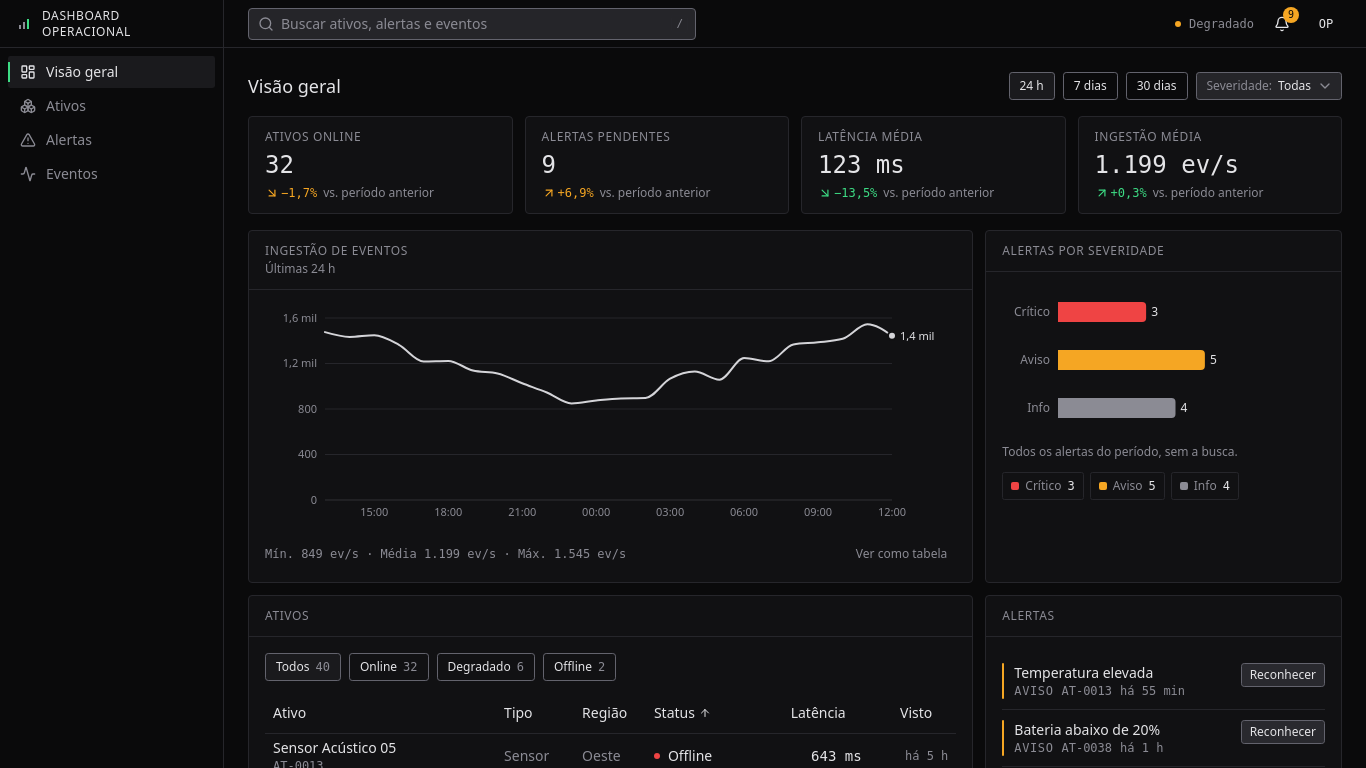
Test: OverviewPage › a busca não muda os KPIs nem o gráfico de severidade, que mostram o período inteiro
Check: the text "Latência média" is shown, box top-left (818, 128), bottom-right (922, 145)
Type "zzz" into the search field labelled "Buscar ativos, alertas e eventos" at (472, 24), box top-left (248, 8), bottom-right (696, 40)
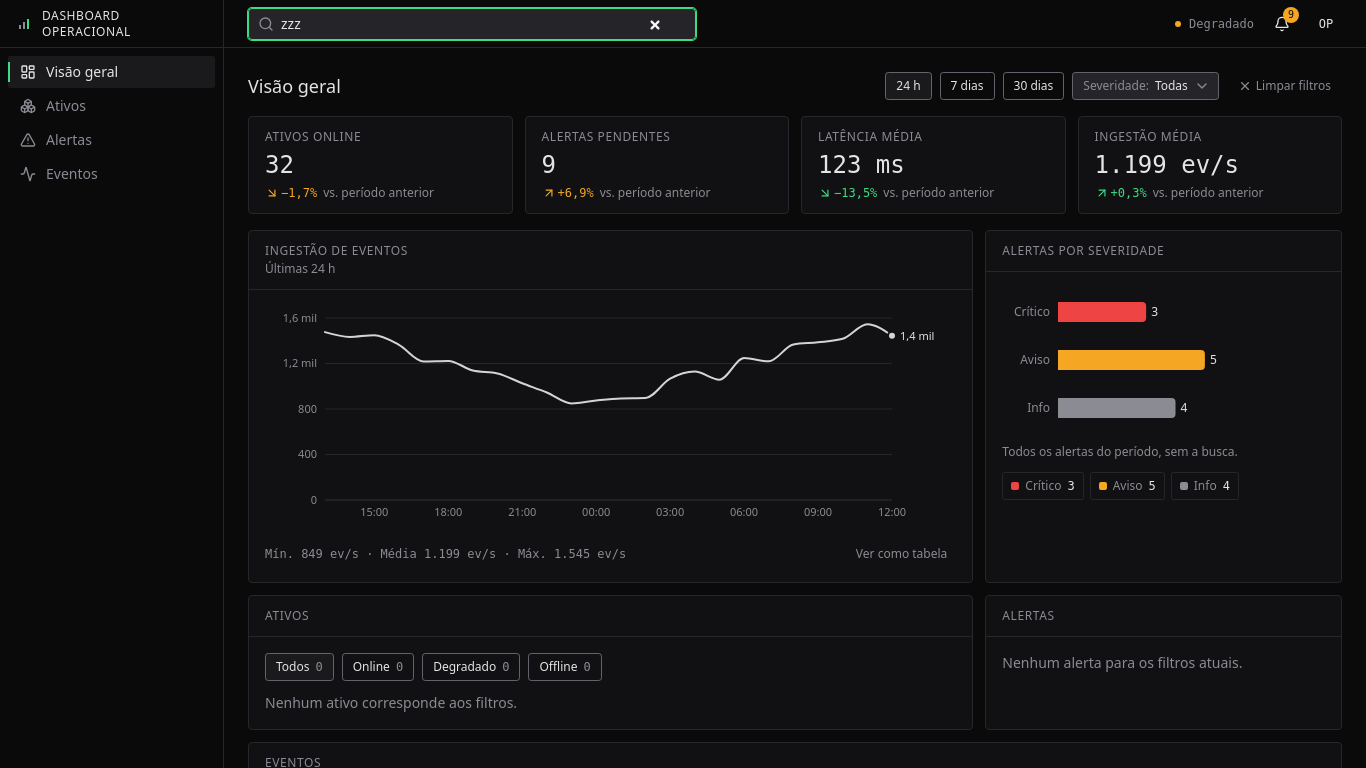
Check: the text "Nenhum alerta para os filtros atuais." is shown, box top-left (1002, 653), bottom-right (1242, 672)
